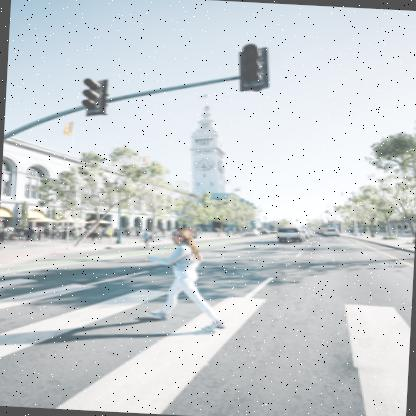trafficlight: (238, 42, 274, 94), (81, 74, 113, 119)
